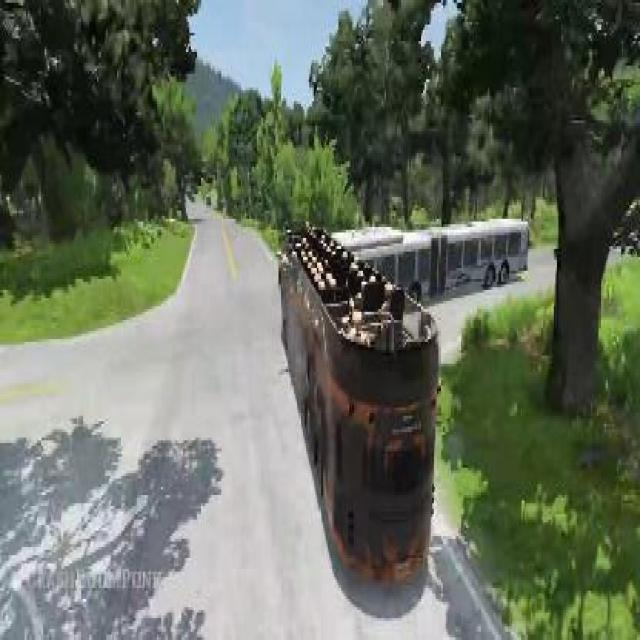accident: (269, 194, 542, 577)
